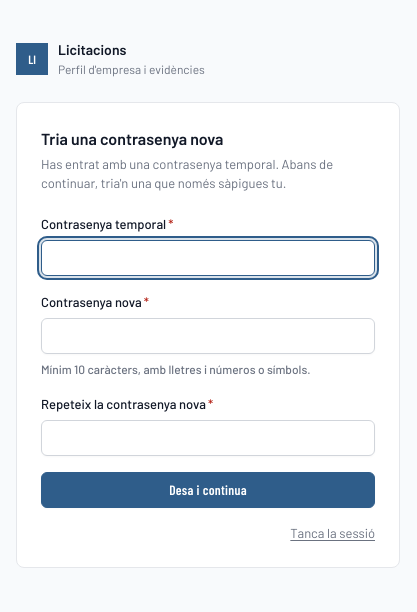
Test: Canvi de contrasenya › no envia res si les noves no coincideixen o són massa curtes
The width and height of the screenshot is (417, 612).
Type "Tmp9xYzAbCdEfGhK" into the password field labelled "Contrasenya temporal*". click: [208, 258]
box: [41,240,375,276]
Type "Indalec-2026-nova" into the password field labelled "Contrasenya nova". click: [208, 336]
box: [41,318,375,354]
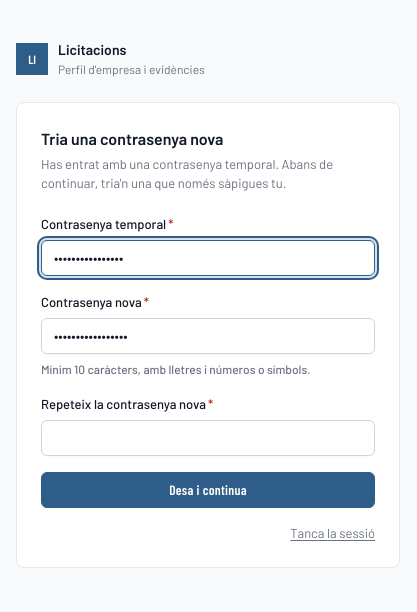
Type "Indalec-2026-altra" into the password field labelled "Repeteix la contrasenya nova*". click: [208, 438]
box: [41,420,375,456]
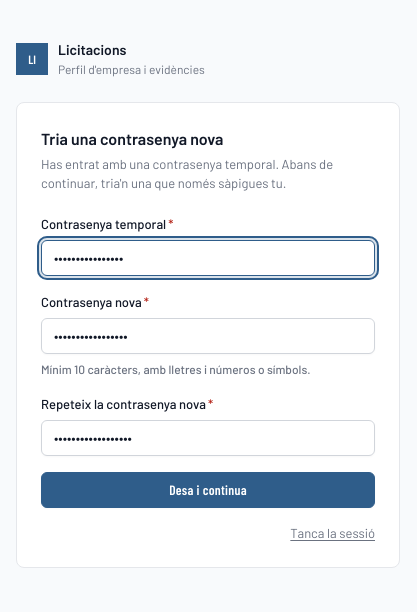
Click the button "Desa i continua". click: [208, 490]
box: [41,472,375,508]
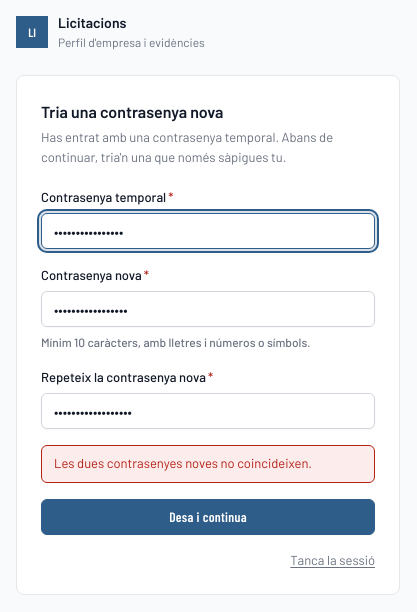
expect the message reads "Les dues contrasenyes noves no coincideixen.": met, box [54,455,312,471]
Type "curta1" into the password field labelled "Contrasenya nova". click: [208, 309]
box: [41,291,375,327]
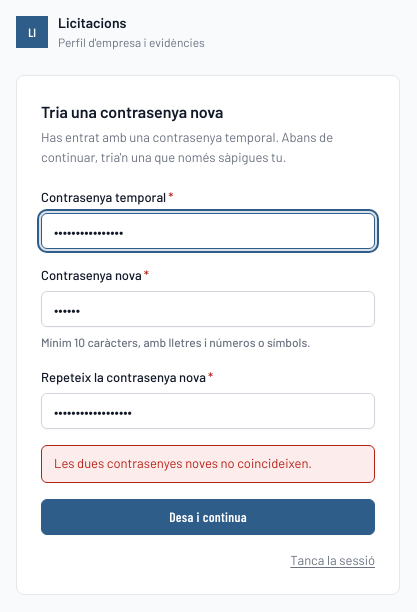
Type "curta1" into the password field labelled "Repeteix la contrasenya nova*". click: [208, 411]
box: [41,393,375,429]
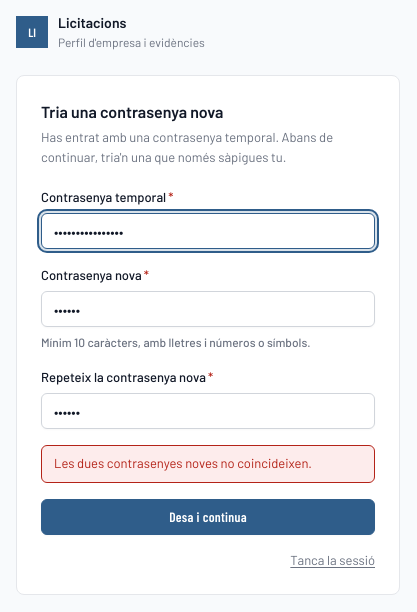
Click the button "Desa i continua". click: [208, 516]
box: [41,498,375,534]
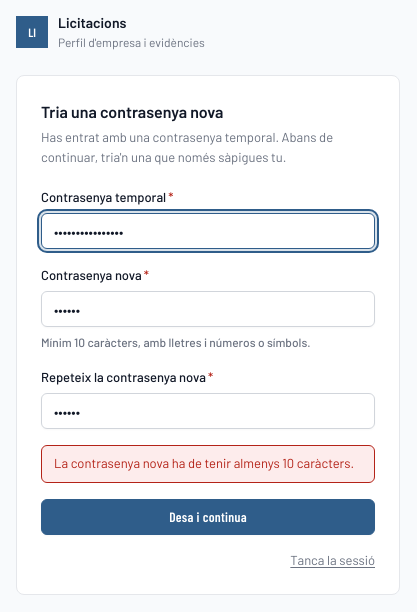
expect the message shows "almenys 10 caràcters": met, box [54,455,354,471]
